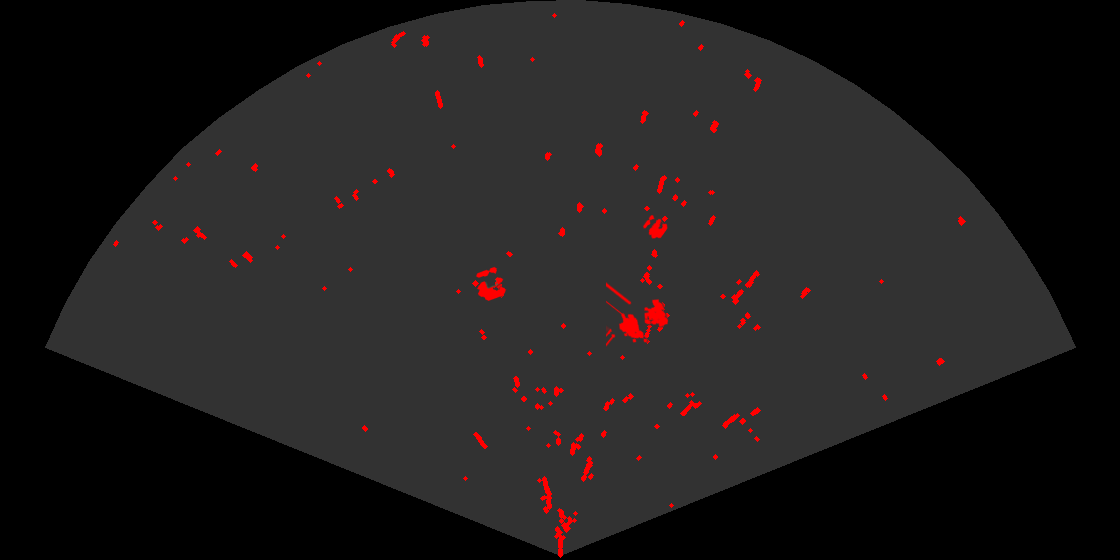ball: (475, 265, 508, 302), (641, 213, 669, 240)
cage: (606, 282, 670, 348)
